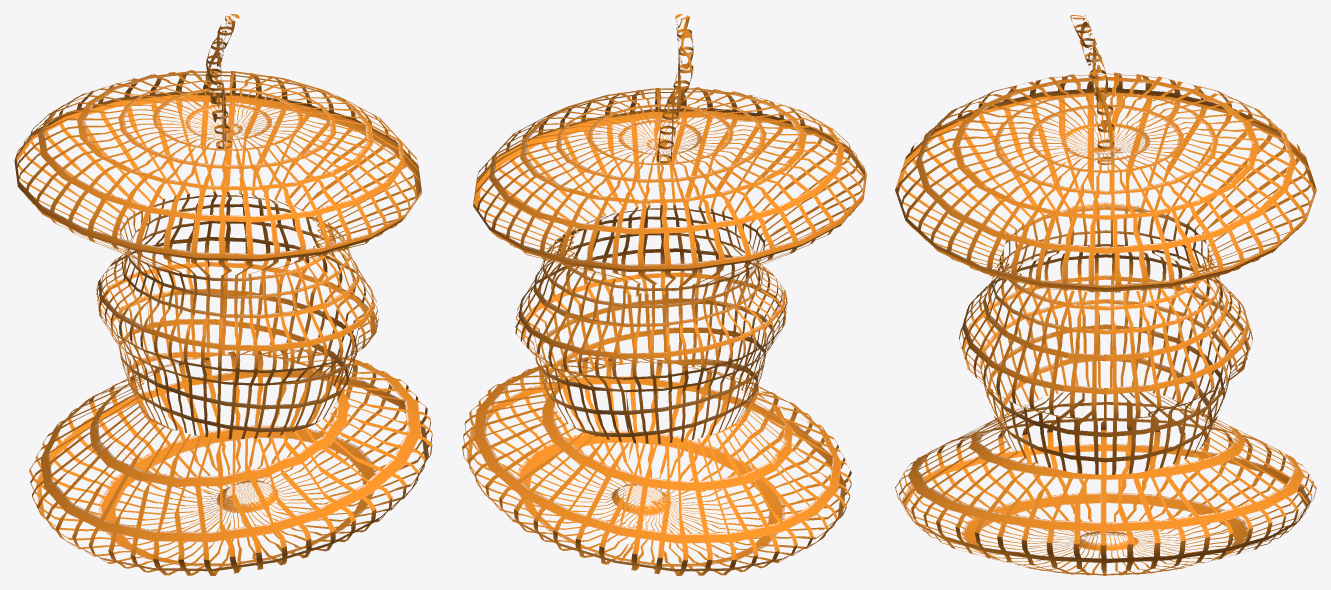
The model's file is meshed apple new.fbx.
The picture shows the model from 3 angles, left to right: view 1: azimuth 30°, elevation 25°; view 2: azimuth 150°, elevation 25°; view 3: azimuth 270°, elevation 25°; orthographic projection. The views are drawn at different scales.
Visible parts, largest first — view 1: polySurface2; view 2: polySurface2; view 3: polySurface2.
Boxes of the visible parts, x1,y1,x2,y2 form: polySurface2: [14, 14, 432, 575]; polySurface2: [462, 14, 866, 575]; polySurface2: [895, 15, 1316, 575].
Size of the model in its own units: 11.73 by 15.86 by 11.39.
1 material, 1 textured.
